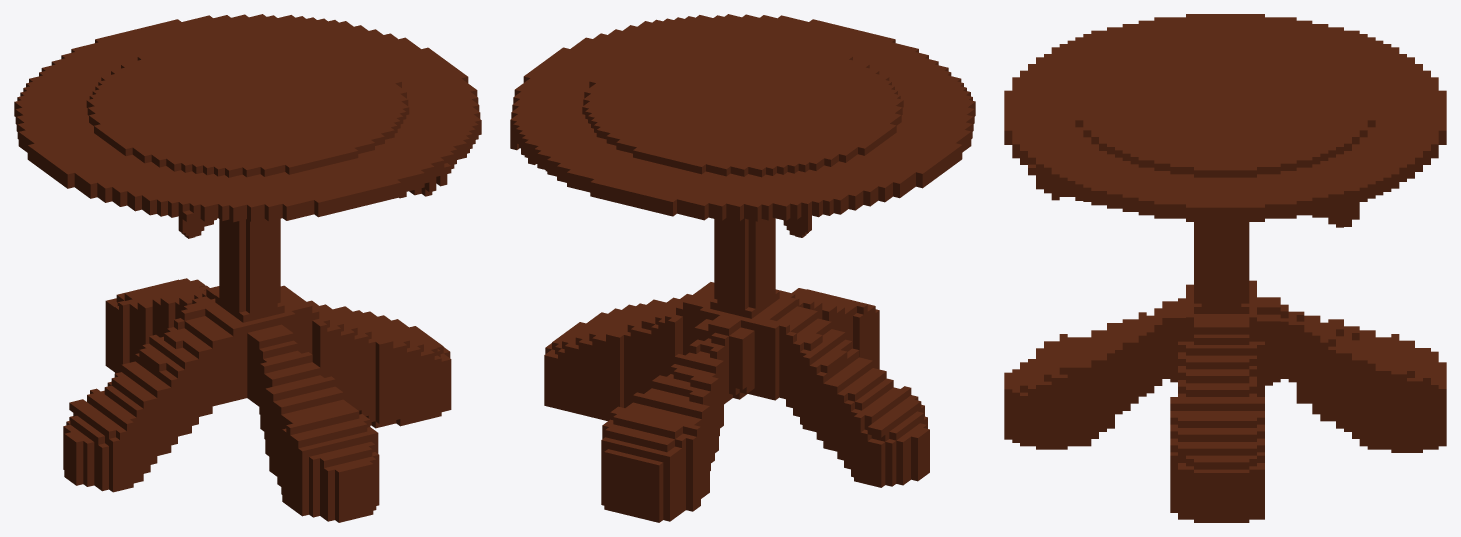
File: Table1.obj
3 renders of one model, left to right at view 1: azimuth 30°, elevation 25°; view 2: azimuth 150°, elevation 25°; view 3: azimuth 270°, elevation 25°, orthographic.
Bounding box in the file's own units: 5.8 × 4.6 × 5.6.
1 material, 1 textured.
